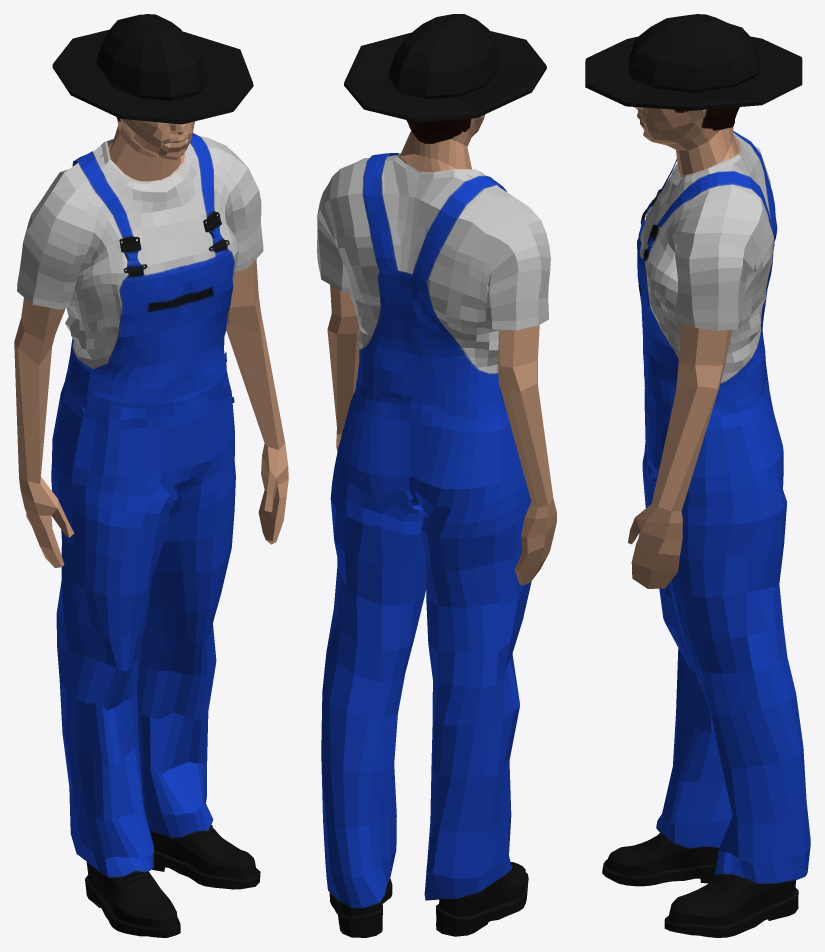
Rendered from neighbour.obj.
3 renders of one model, left to right at view 1: azimuth 30°, elevation 25°; view 2: azimuth 150°, elevation 25°; view 3: azimuth 270°, elevation 25°, orthographic. The views are drawn at different scales.
Parts seen in each view (by area): view 1: Worker2; view 2: Worker2; view 3: Worker2.
Boxes of the visible parts, x1,y1,x2,y2 form: Worker2: (14, 14, 288, 937); Worker2: (317, 14, 556, 937); Worker2: (585, 14, 810, 937).
Size of the model in its own units: 51.7 by 184 by 43.18.
1 material, 1 textured.
